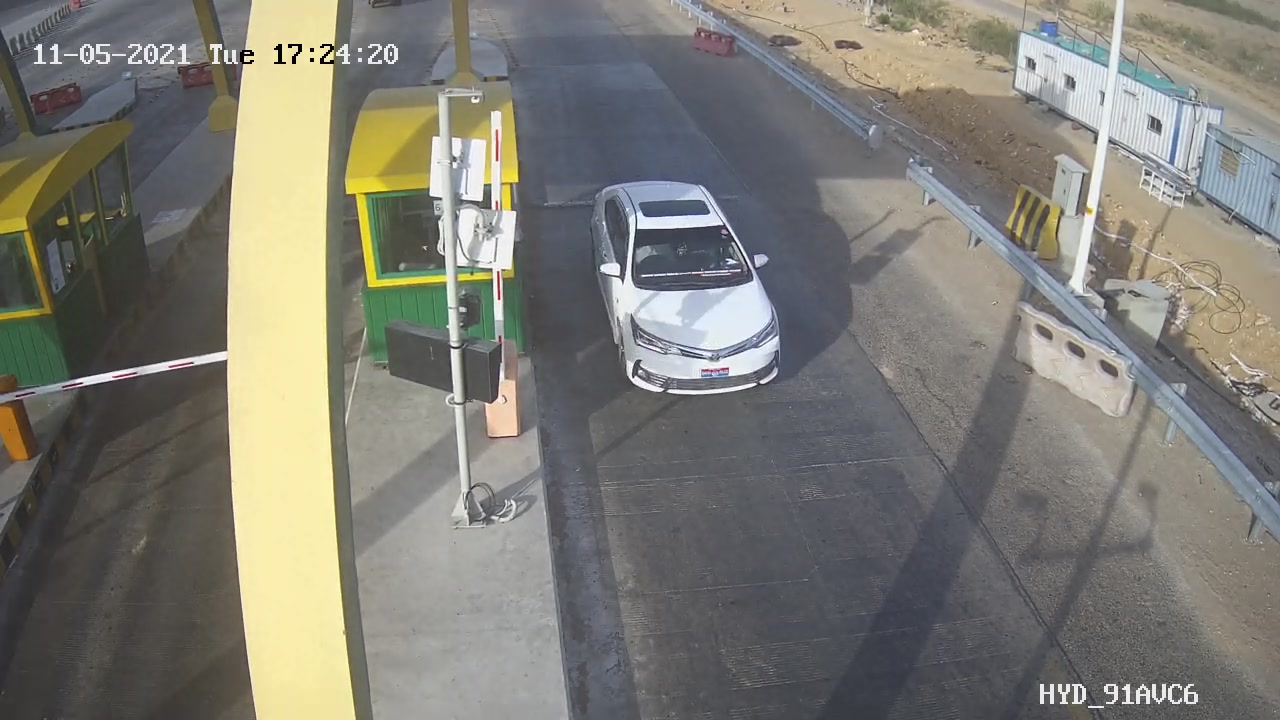F1: (566, 164, 801, 411)
